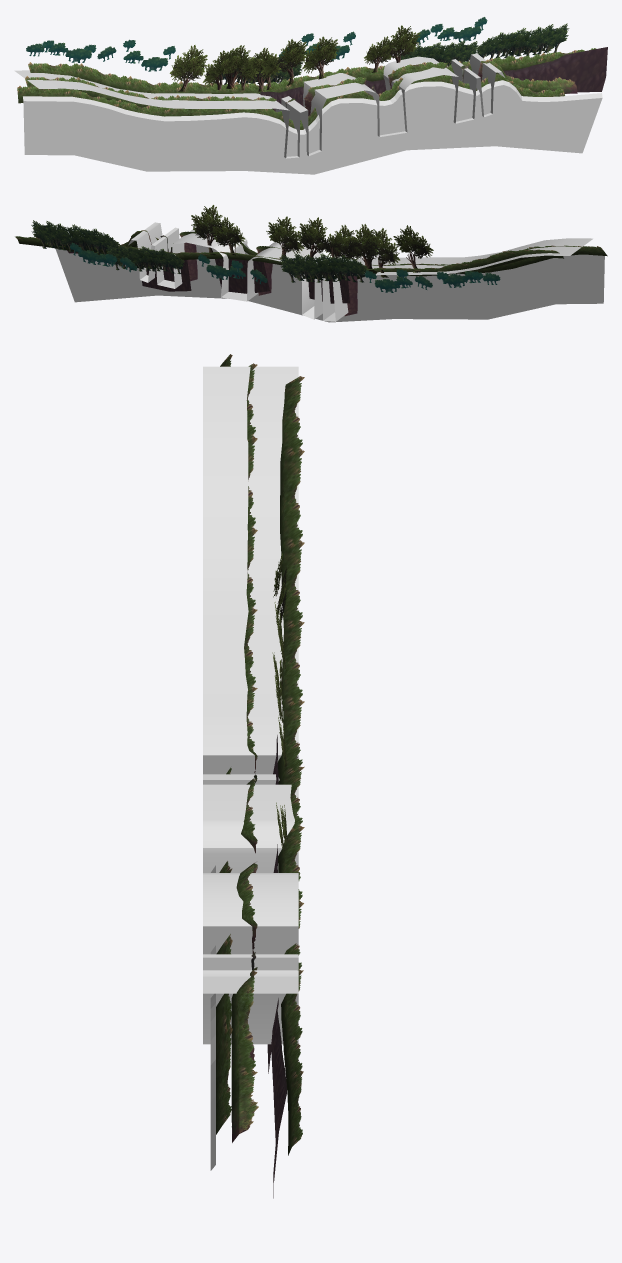
The model's file is Tree Village Pt1.FBX.
3 views of the same model, one above another, from view 1: azimuth 30°, elevation 25°; view 2: azimuth 150°, elevation 25°; view 3: azimuth 270°, elevation 25° (orthographic). The views are drawn at different scales.
Visible parts, largest first — view 1: LVL 11 Black Pt1_1, LVL 11 Black Pt1_2, LVL 11 Col Pt1, LVL11_Land Pt1 BG, LVL11 Tree BG Pt1, LVL11_Land Pt1 FG, LVL11 Trees Pt1_1, LVL11 Trees Horizon Pt1, LVL Fall Pt1_4, LVL11 Trees Pt1_2, LVL11 Trees Pt1_3, LVL11_Land Pt1_1 (+4 smaller); view 2: LVL 11 Black Pt1_1, LVL 11 Col Pt1, LVL 11 Black Pt1_2, LVL11 Tree BG Pt1, LVL11 Trees Pt1_1, LVL11 Trees Horizon Pt1, LVL11_Land Pt1 BG, LVL11 Trees Pt1_2, LVL11 Trees Pt1_3, LVL Fall Pt1_2, LVL11_Land Pt1 FG, LVL Fall Pt1_3 (+4 smaller); view 3: LVL 11 Col Pt1, LVL11_Land Pt1 BG, LVL11_Land Pt1_3, LVL11_Land Pt1 FG, LVL11_Land Pt1_1, LVL Fall Pt1_4.
Boxes of the visible parts, <box> form: LVL 11 Black Pt1_1: <box>23,96,350,174</box>; LVL 11 Black Pt1_2: <box>314,80,602,174</box>; LVL 11 Col Pt1: <box>14,53,504,158</box>; LVL11_Land Pt1 BG: <box>28,48,596,93</box>; LVL11 Tree BG Pt1: <box>219,23,569,84</box>; LVL11_Land Pt1 FG: <box>17,73,564,129</box>; LVL11 Trees Pt1_1: <box>169,45,281,91</box>; LVL11 Trees Horizon Pt1: <box>26,17,487,71</box>; LVL Fall Pt1_4: <box>503,47,607,92</box>; LVL11 Trees Pt1_2: <box>275,36,339,85</box>; LVL11 Trees Pt1_3: <box>364,25,420,72</box>; LVL11_Land Pt1_1: <box>25,76,266,107</box>; LVL 11 Black Pt1_1: <box>329,254,604,322</box>; LVL 11 Col Pt1: <box>128,222,592,321</box>; LVL 11 Black Pt1_2: <box>55,238,328,322</box>; LVL11 Tree BG Pt1: <box>31,220,367,282</box>; LVL11 Trees Pt1_1: <box>325,224,433,277</box>; LVL11 Trees Horizon Pt1: <box>70,242,500,292</box>; LVL11_Land Pt1 BG: <box>15,236,563,276</box>; LVL11 Trees Pt1_2: <box>266,216,329,259</box>; LVL11 Trees Pt1_3: <box>191,205,245,255</box>; LVL Fall Pt1_2: <box>215,259,269,293</box>; LVL11_Land Pt1 FG: <box>98,237,607,279</box>; LVL Fall Pt1_3: <box>142,260,191,291</box>; LVL 11 Col Pt1: <box>203,366,298,1044</box>; LVL11_Land Pt1 BG: <box>278,376,304,1155</box>; LVL11_Land Pt1_3: <box>231,984,258,1142</box>; LVL11_Land Pt1 FG: <box>216,354,232,1134</box>; LVL11_Land Pt1_1: <box>244,363,257,736</box>; LVL Fall Pt1_4: <box>271,1008,287,1198</box>.
Size of the model in its own units: 15103 by 2454 by 4821.
